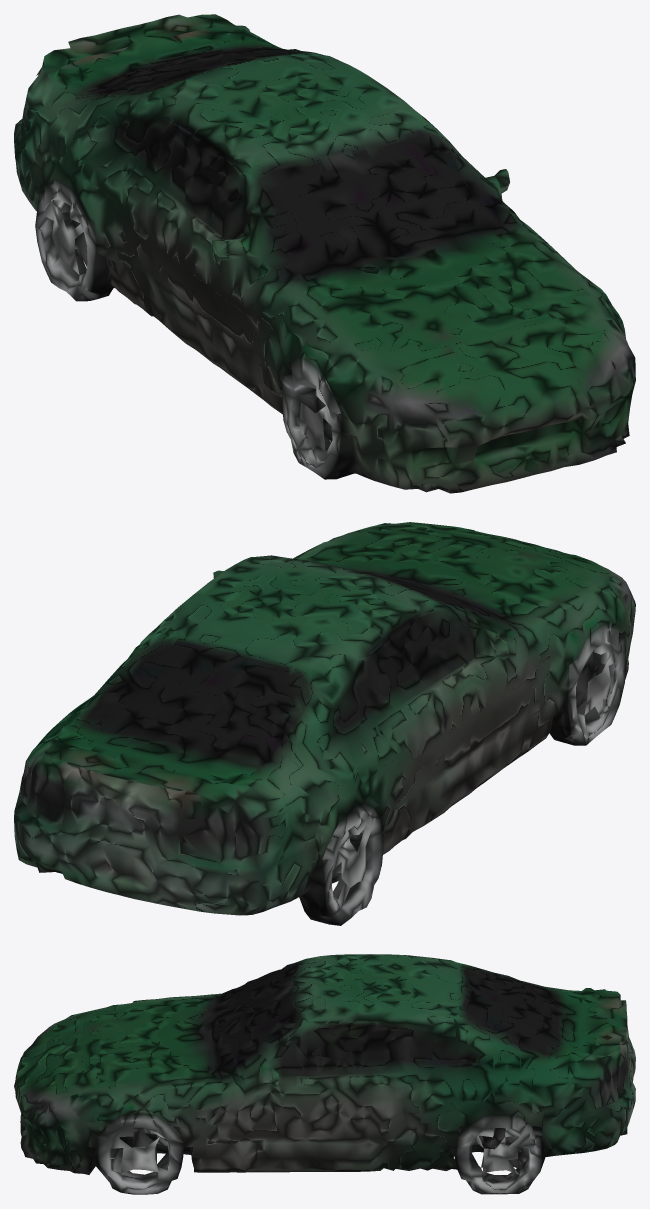
Rendered from car_green.1.glb.
The picture shows the model from 3 angles, top to bottom: view 1: azimuth 30°, elevation 25°; view 2: azimuth 150°, elevation 25°; view 3: azimuth 270°, elevation 25°; orthographic projection. The views are drawn at different scales.
Parts seen in each view (by area): view 1: lod; view 2: lod; view 3: lod.
Boxes of the visible parts, x1=… form: lod: x1=14, y1=14, x2=635, y2=493; lod: x1=14, y1=522, x2=635, y2=925; lod: x1=14, y1=954, x2=635, y2=1194.
Size of the model in its own units: 0.3998 by 0.2931 by 0.9968.
